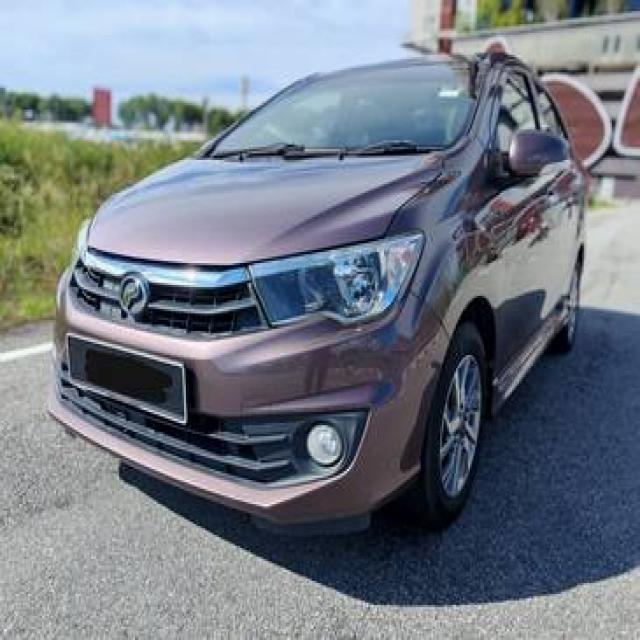PeroduaBezza: (45, 43, 591, 537)
